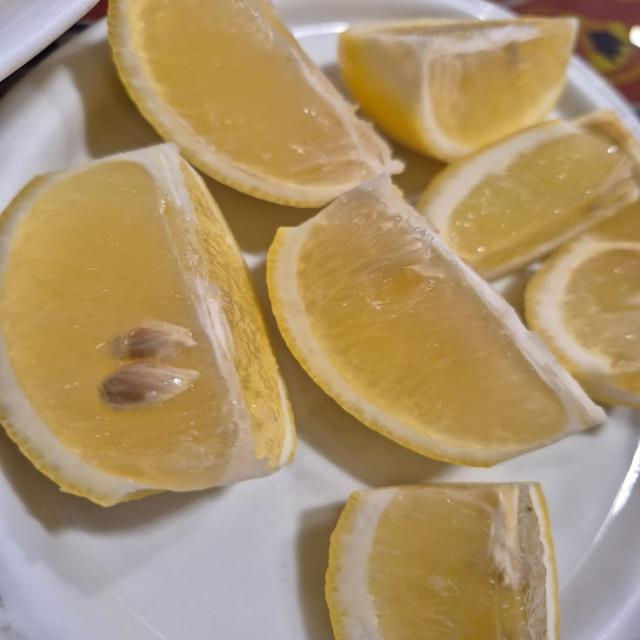lemon: (0, 145, 294, 505), (267, 177, 604, 465), (109, 0, 400, 206), (418, 111, 639, 279), (326, 483, 558, 639), (340, 18, 576, 160), (526, 203, 639, 407)
